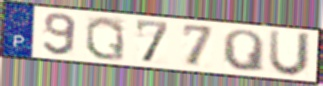7: (134, 18, 172, 65), (181, 23, 215, 69)
9: (42, 12, 77, 57)
Q: (221, 28, 266, 75), (84, 15, 126, 63)
U: (266, 28, 314, 79)
